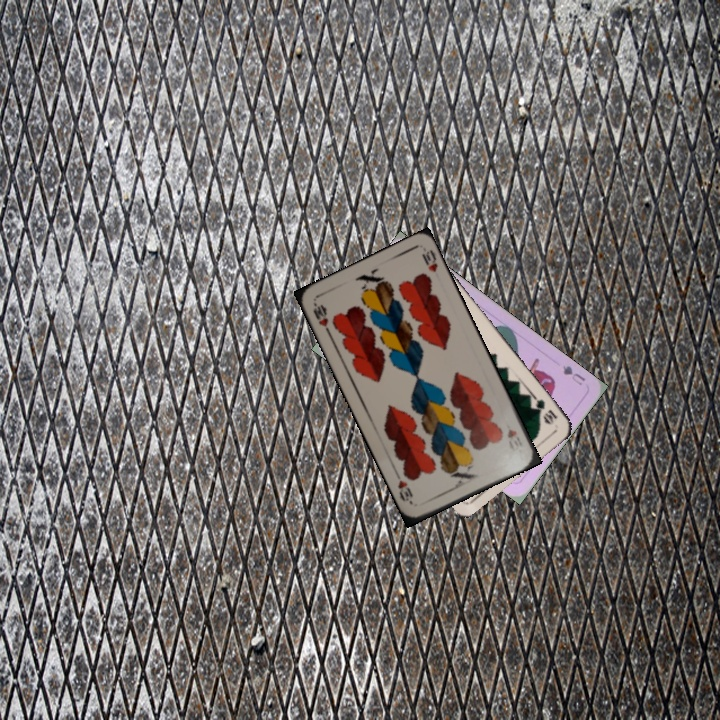G10: (530, 392, 560, 427)
GU: (559, 361, 588, 388)
H10: (309, 299, 333, 337), (503, 425, 525, 454)
